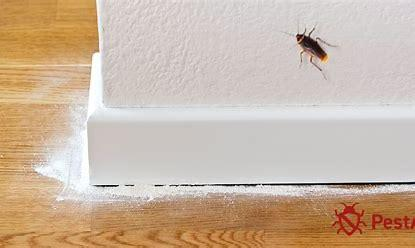cockroach: (271, 21, 347, 79)
